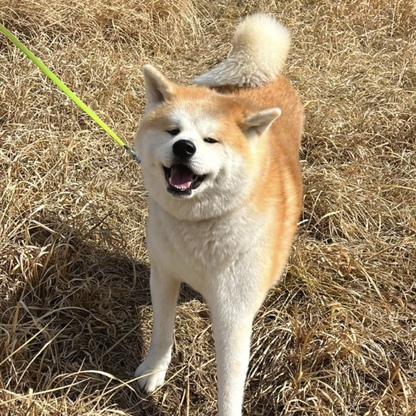akita: (129, 8, 312, 416)
